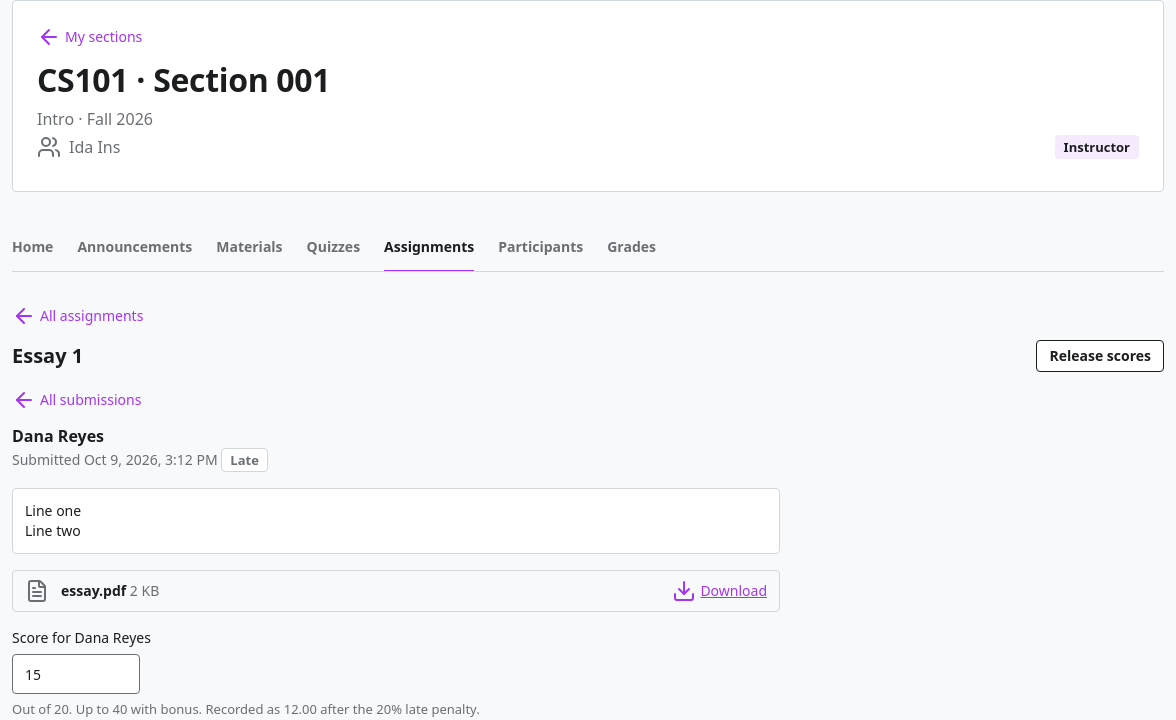
Test: panel: Late badge and the penalised line follow the typed score
The width and height of the screenshot is (1176, 720).
Check: the text "Late" is shown, box x1=221 y1=448 x2=268 y2=472
Check: the text "Recorded as 12.00 after the 20% late penalty." is shown, box x1=12 y1=700 x2=480 y2=718
Replace the text in the field labelled "Score for Dana Reyes" with "12.5" at (76, 674), box x1=12 y1=654 x2=140 y2=694
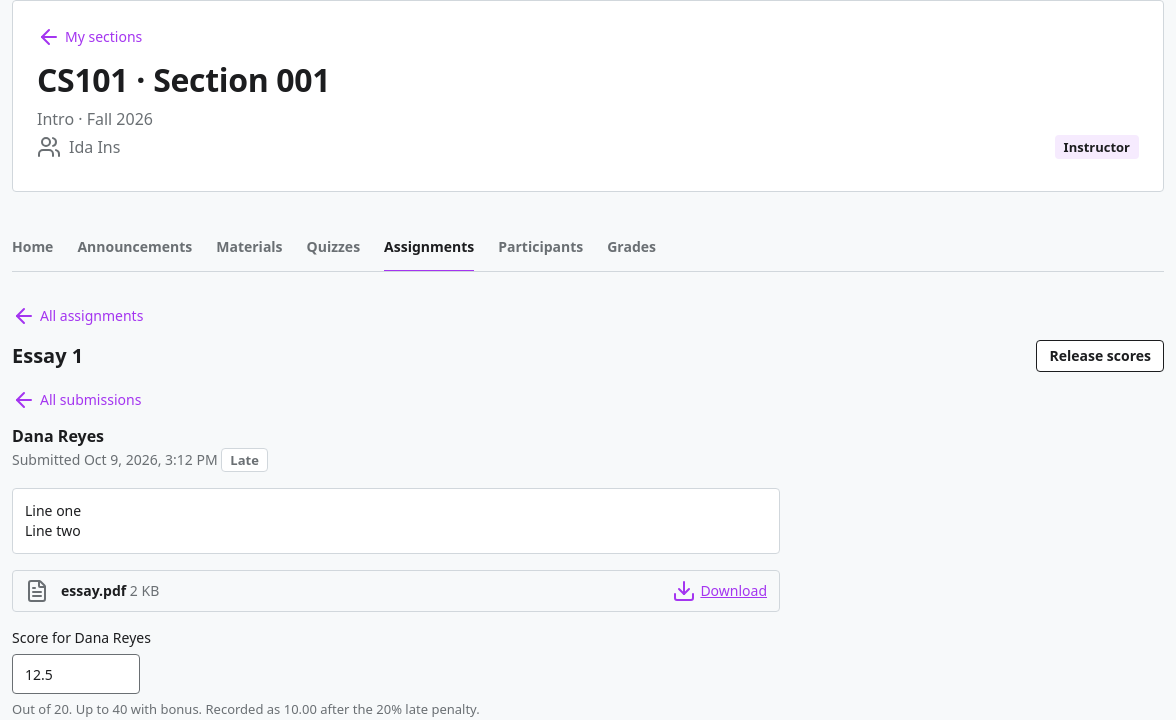
Check: the text "Recorded as 10.00 after the 20% late penalty." is shown, box x1=12 y1=700 x2=480 y2=718
Replace the text in the field labelled "Score for Dana Reyes" with "abc" at (76, 674), box x1=12 y1=654 x2=140 y2=694
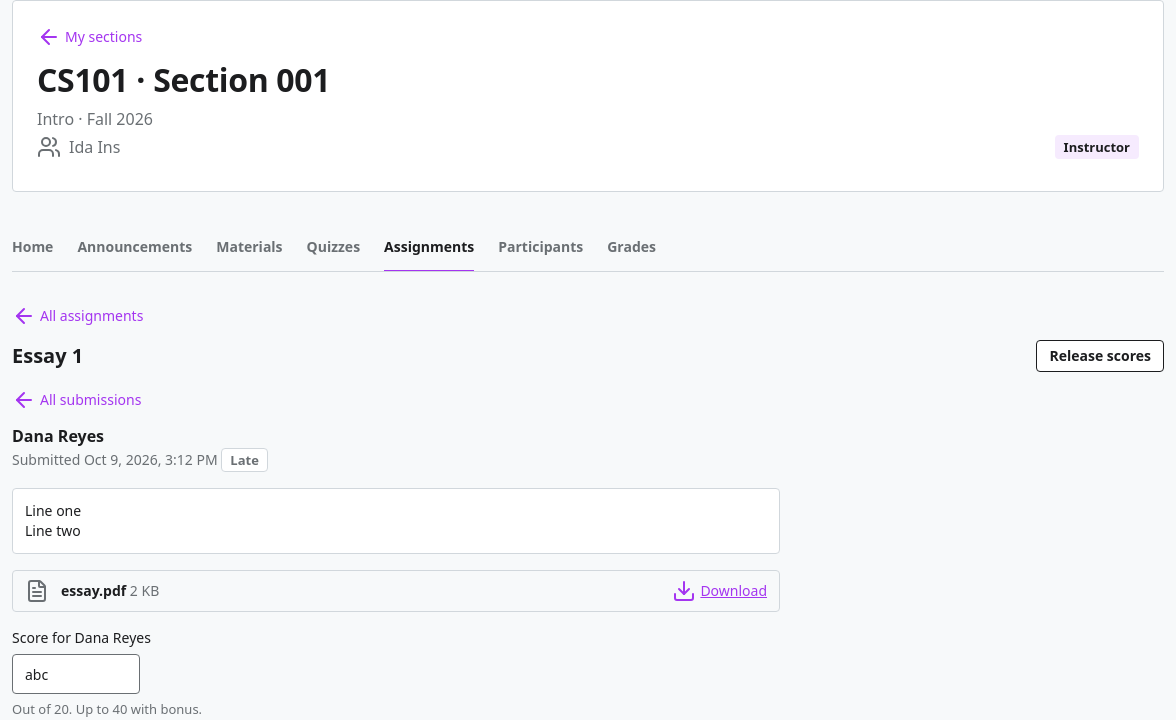
Check: the text "Recorded as" is gone
